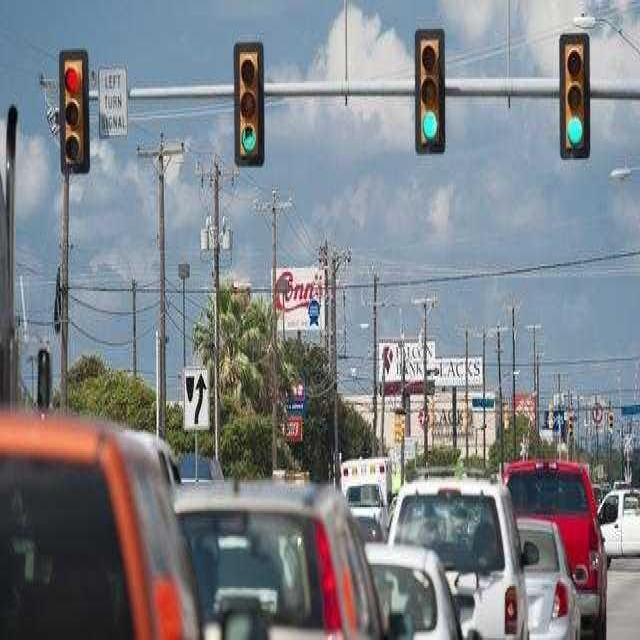Traffic Light -Green-: (560, 33, 593, 160), (233, 41, 265, 168), (414, 29, 444, 156)
Traffic Light -Red-: (58, 52, 92, 176)
